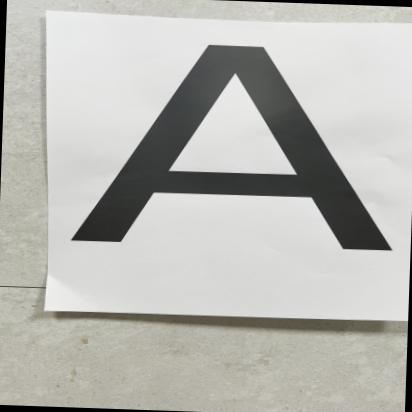seat: (46, 25, 412, 304)
